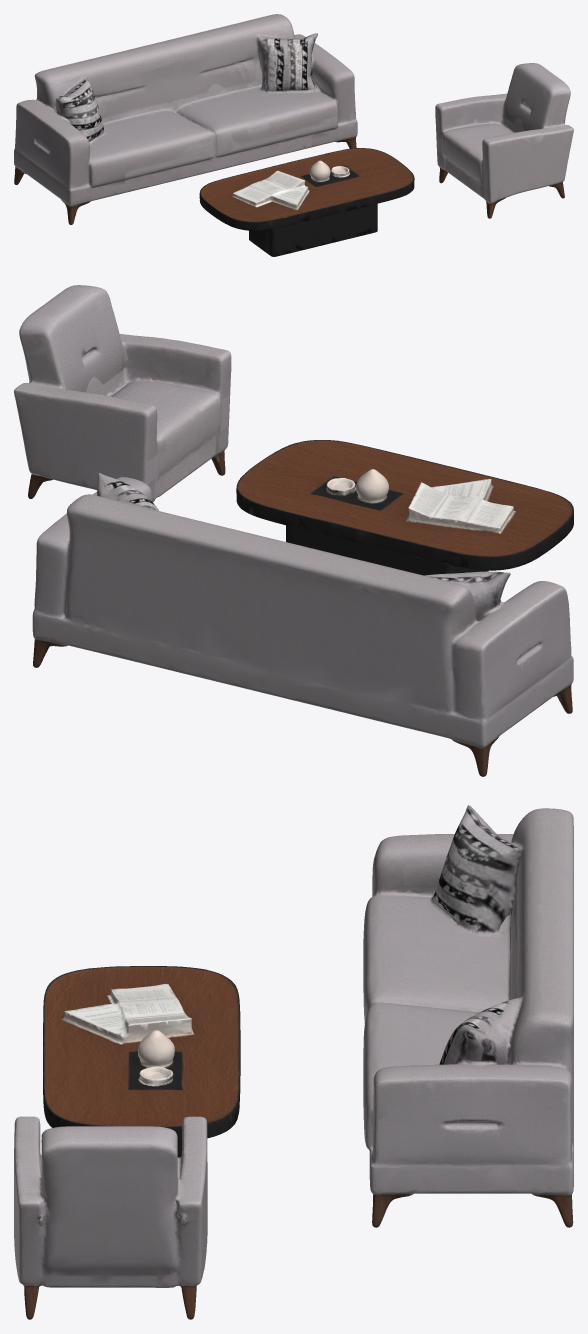
Rendered from koltukT.glb.
3 views of the same model, one above another, from view 1: azimuth 30°, elevation 25°; view 2: azimuth 150°, elevation 25°; view 3: azimuth 270°, elevation 25° (orthographic). The views are drawn at different scales.
Bounding box in the file's own units: 1.9 × 0.5207 × 1.27.
1 material, 1 textured.
